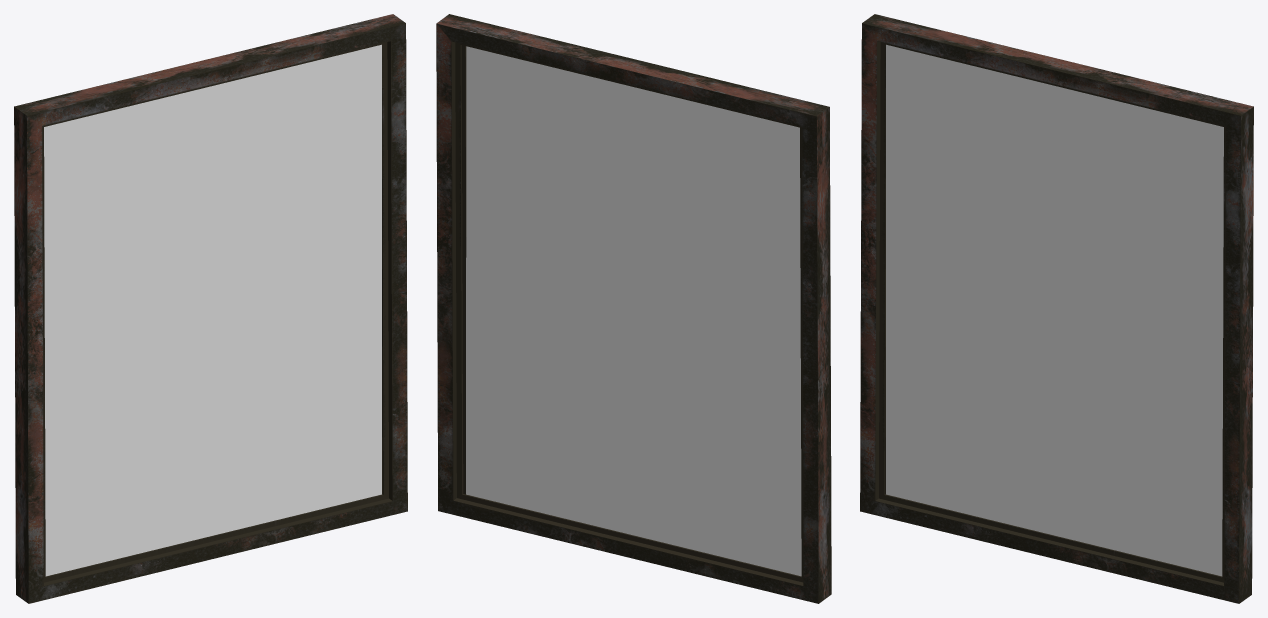
3 views of the same model, side by side, from view 1: azimuth 30°, elevation 25°; view 2: azimuth 150°, elevation 25°; view 3: azimuth 330°, elevation 25° (orthographic).
Visible parts, largest first — view 1: Plane, f; view 2: Plane, f; view 3: Plane, f.
Boxes of the visible parts, <box> form: Plane: <box>44,44,381,576</box>; f: <box>14,14,407,603</box>; Plane: <box>466,46,801,576</box>; f: <box>436,14,831,603</box>; Plane: <box>886,44,1223,576</box>; f: <box>860,14,1253,603</box>.
Bounding box in the file's own units: 0.8737 × 1.07 × 0.0585.
Materials: 2 (1 with a texture image).
